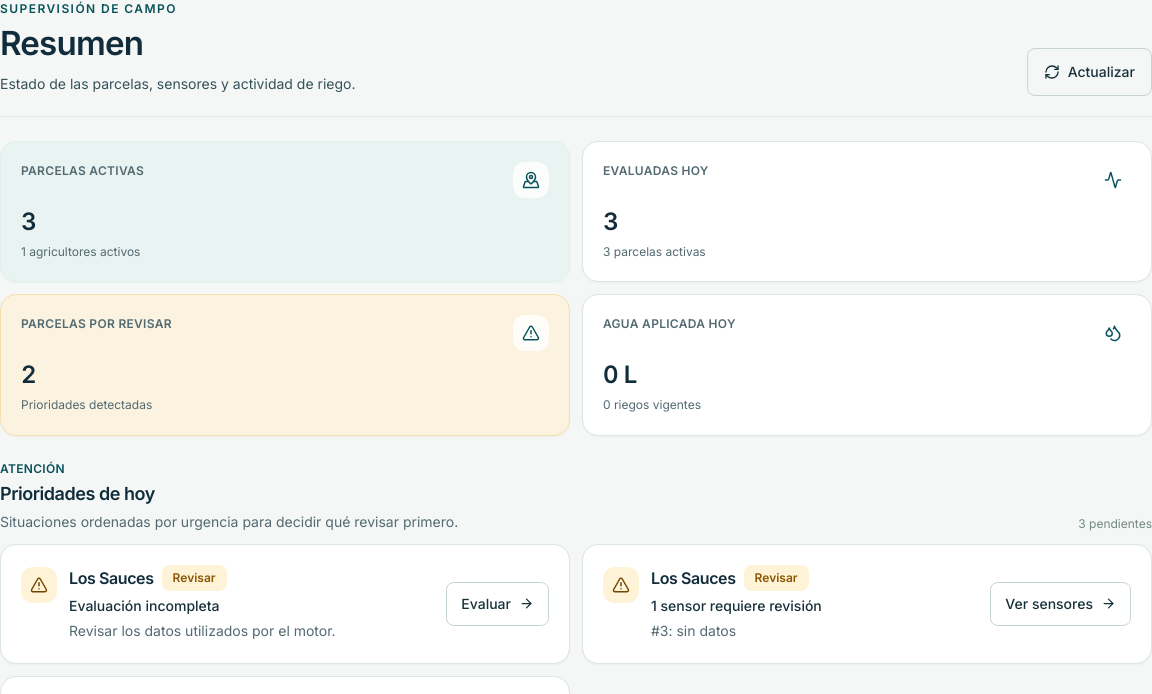
Resumen del técnico › mantiene los indicadores disponibles e informa cuando una fuente falla
Check: the element named "Indicadores del campo" is shown, box [0, 140, 1151, 436]
Note: La actualización se activa con el único botón del encabezado.
Click the button "Actualizar".
click(1089, 72)  # box [1027, 48, 1151, 96]
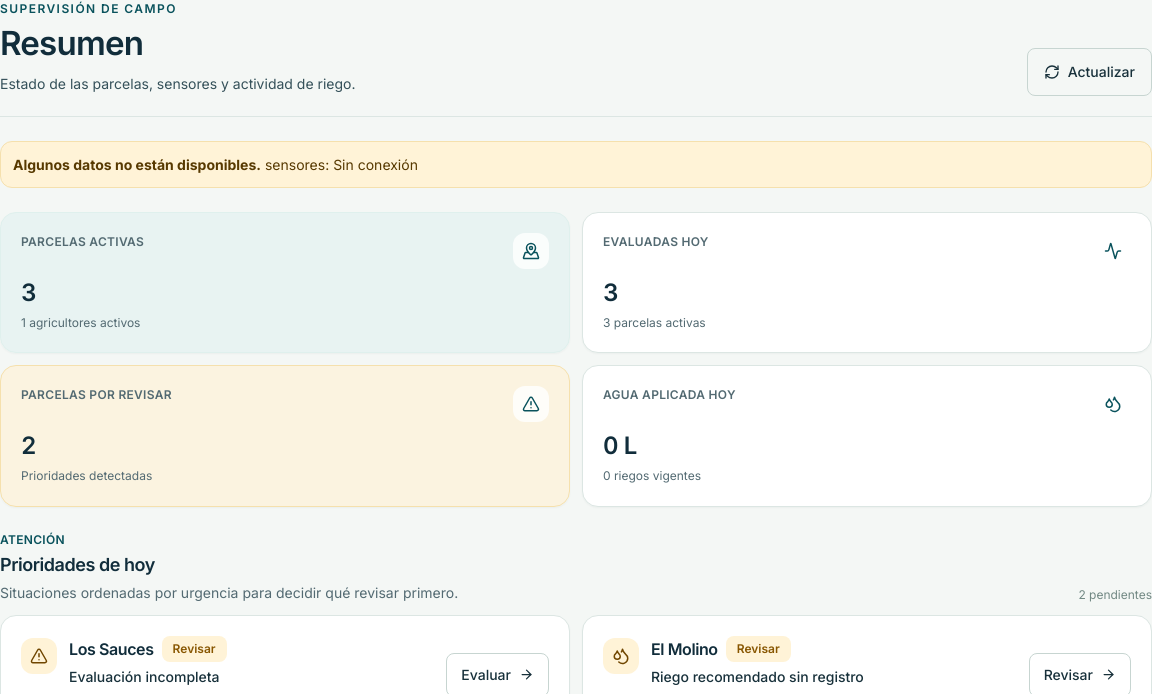
Check: the text "Parcelas activas" is shown, box [21, 232, 144, 250]
Check: the message shows "sensores", box [265, 156, 418, 172]
